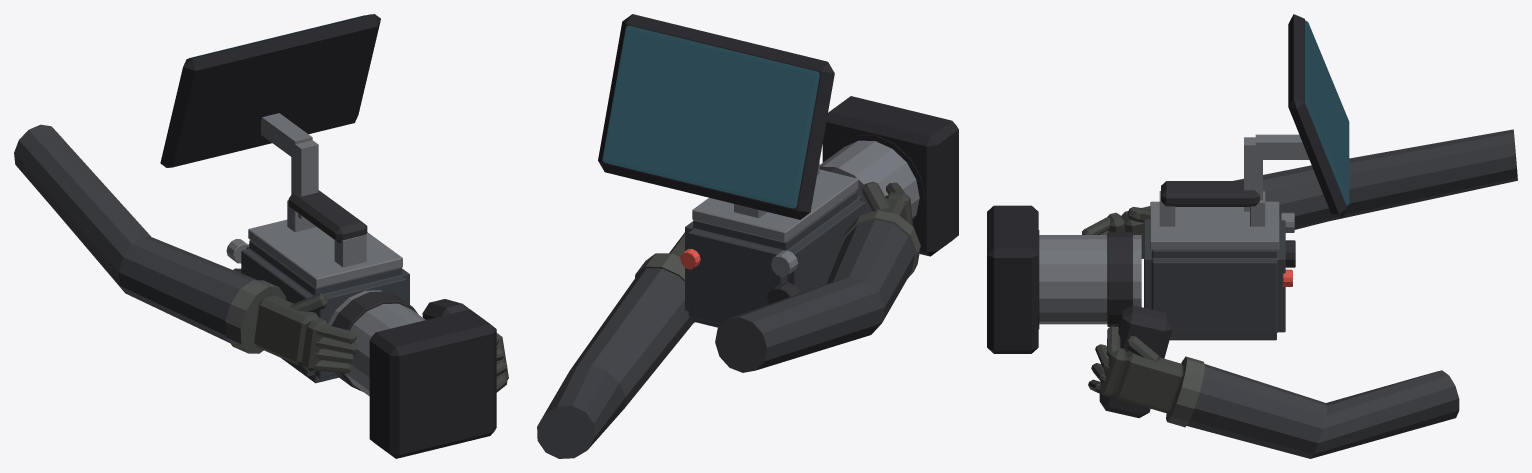
File: rig_raw.glb
3 renders of one model, left to right at view 1: azimuth 30°, elevation 25°; view 2: azimuth 150°, elevation 25°; view 3: azimuth 270°, elevation 25°, orthographic. The views are drawn at different scales.
Parts seen in each view (by area): view 1: RIG_monitor, hand_L_arm, RIG_mattebox, RIG_topplate, RIG_body, hand_L_palm, RIG_lens, hand_L_cuff, RIG_handle, RIG_mon_arm0, RIG_lens_ring, RIG_mon_arm1 (+4 smaller); view 2: RIG_Monitor_Screen, hand_L_arm, hand_R_arm, RIG_body, RIG_mattebox, RIG_monitor, RIG_topplate, RIG_lens, hand_L_cuff, RIG_lens_front, hand_R_cuff, RIG_knob2 (+2 smaller); view 3: hand_R_arm, RIG_body, hand_L_arm, RIG_mattebox, RIG_lens, RIG_topplate, RIG_Monitor_Screen, RIG_monitor, hand_R_palm, RIG_grip_R, RIG_handle, RIG_lens_ring (+4 smaller).
Boxes of the visible parts, x1,y1,x2,y2 form: RIG_monitor: [160, 14, 380, 167]; hand_L_arm: [14, 124, 257, 342]; RIG_mattebox: [369, 309, 496, 458]; RIG_topplate: [248, 219, 402, 288]; RIG_body: [241, 240, 409, 383]; hand_L_palm: [254, 295, 318, 365]; RIG_lens: [328, 290, 425, 396]; hand_L_cuff: [225, 280, 286, 353]; RIG_handle: [288, 190, 367, 243]; RIG_mon_arm0: [291, 140, 318, 219]; RIG_lens_ring: [331, 291, 417, 391]; RIG_mon_arm1: [261, 113, 312, 156]; RIG_Monitor_Screen: [602, 25, 819, 208]; hand_L_arm: [715, 219, 914, 372]; hand_R_arm: [537, 268, 693, 458]; RIG_body: [685, 190, 865, 327]; RIG_mattebox: [822, 96, 958, 256]; RIG_monitor: [598, 14, 834, 219]; RIG_topplate: [692, 169, 858, 242]; RIG_lens: [819, 140, 919, 219]; hand_L_cuff: [842, 210, 920, 277]; RIG_lens_front: [829, 134, 925, 227]; hand_R_cuff: [635, 253, 694, 322]; RIG_knob2: [771, 250, 798, 276]; hand_R_arm: [1186, 364, 1459, 458]; RIG_body: [1144, 219, 1285, 340]; hand_L_arm: [1233, 129, 1517, 229]; RIG_mattebox: [987, 205, 1038, 353]; RIG_lens: [1039, 235, 1141, 324]; RIG_topplate: [1150, 201, 1279, 250]; RIG_Monitor_Screen: [1305, 21, 1349, 205]; RIG_monitor: [1288, 14, 1347, 217]; hand_R_palm: [1115, 351, 1183, 413]; RIG_grip_R: [1099, 305, 1172, 417]; RIG_handle: [1161, 181, 1259, 206]; RIG_lens_ring: [1107, 232, 1132, 326].
Bounding box in the file's own units: 0.375 × 0.4488 × 0.6179.
